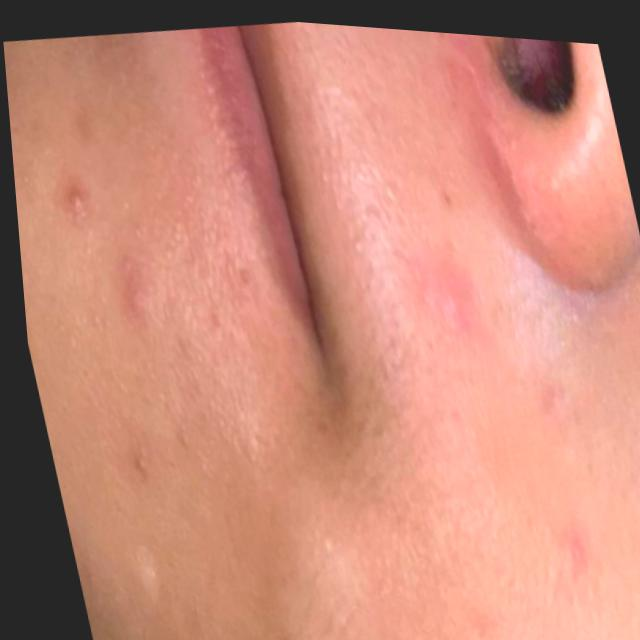papule: (101, 249, 170, 344), (427, 235, 474, 339)
pustule: (39, 169, 94, 228)
